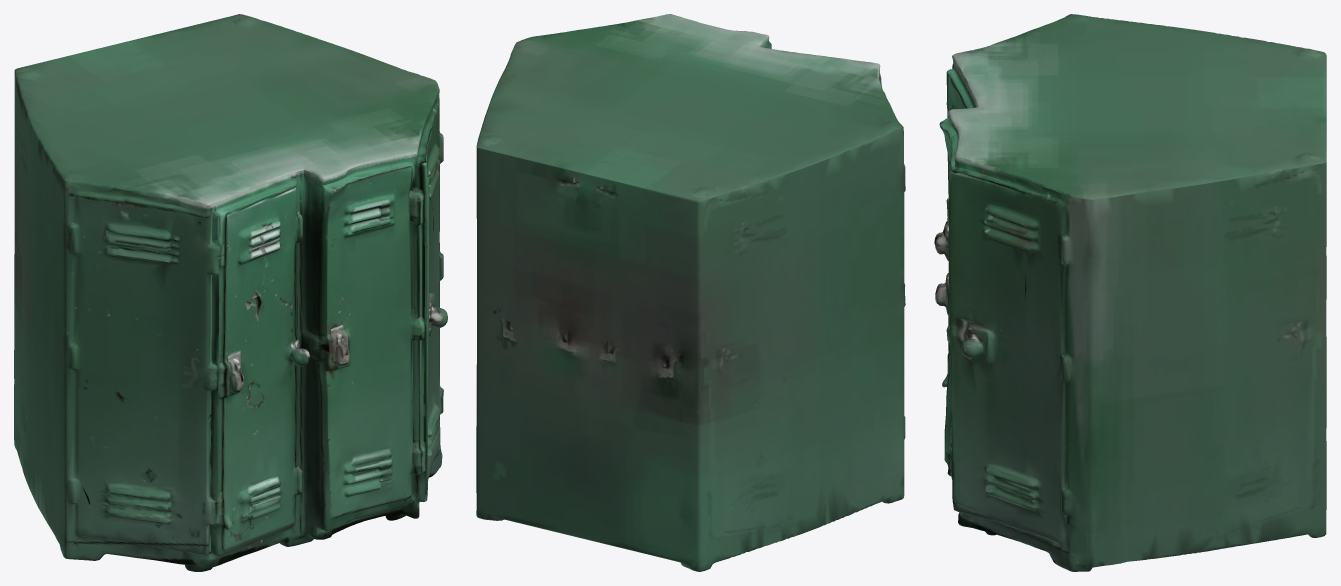
The model's file is locker-bank.glb.
The picture shows the model from 3 angles, left to right: view 1: azimuth 30°, elevation 25°; view 2: azimuth 150°, elevation 25°; view 3: azimuth 270°, elevation 25°; orthographic projection.
Visible parts, largest first — view 1: cowninja-locker-bank; view 2: cowninja-locker-bank; view 3: cowninja-locker-bank.
Part boxes in pixels (x1,y1,x2,y2): cowninja-locker-bank: [14, 14, 447, 571]; cowninja-locker-bank: [476, 14, 905, 571]; cowninja-locker-bank: [934, 14, 1326, 571].
Bounding box in the file's own units: 1.99 × 1.9 × 1.78.
1 material, 1 textured.
